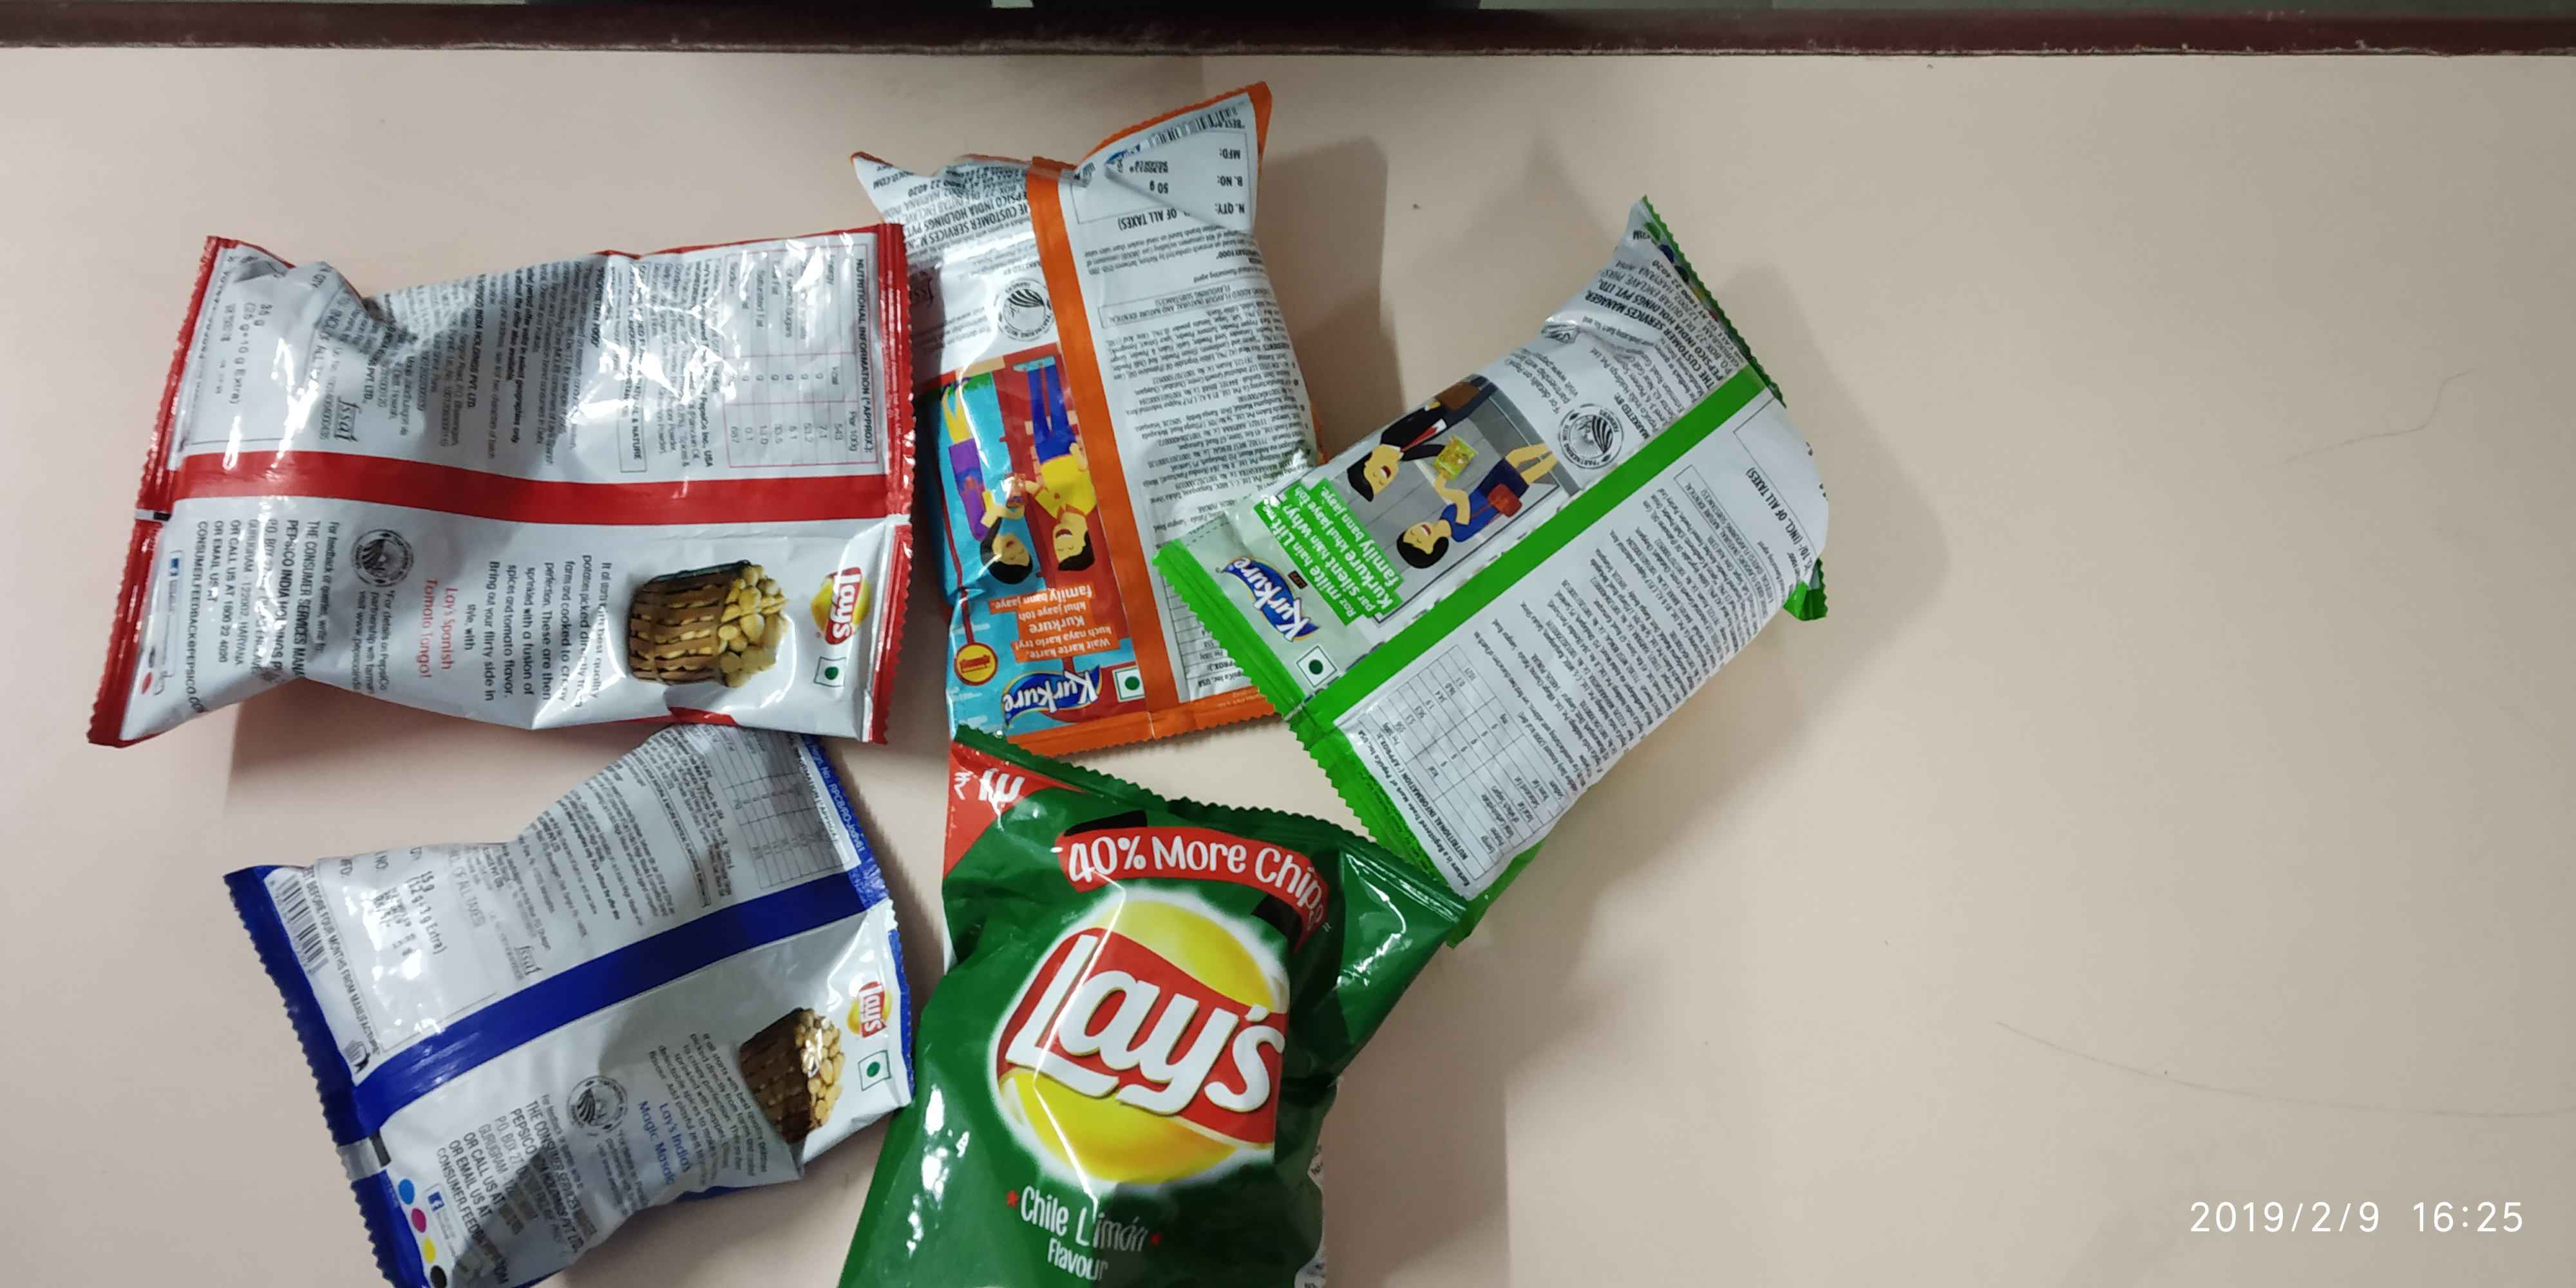Lays: (986, 882, 1299, 1214), (802, 560, 884, 654), (846, 964, 907, 1043)
kurkure: (1199, 549, 1332, 651), (984, 672, 1115, 718)
